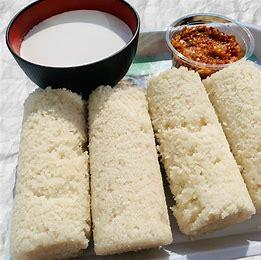Pittu: (18, 85, 250, 252)
